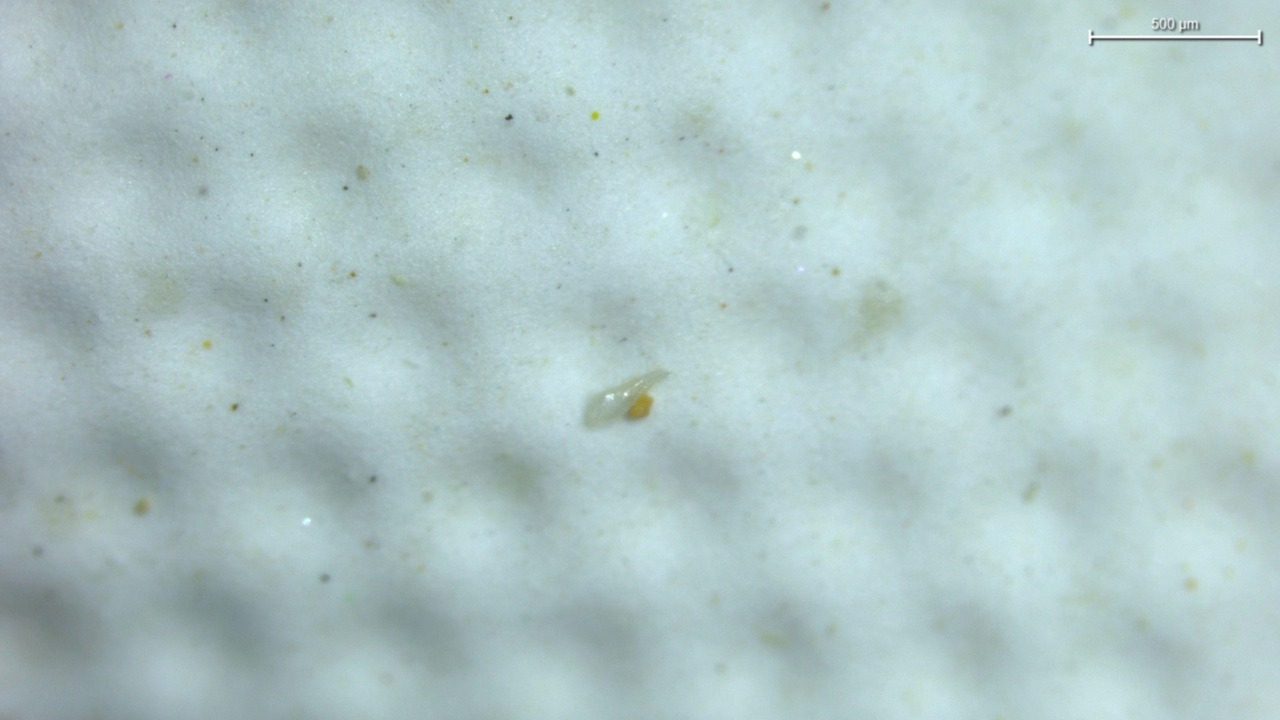microplastic_fragment: (584, 370, 669, 429)
